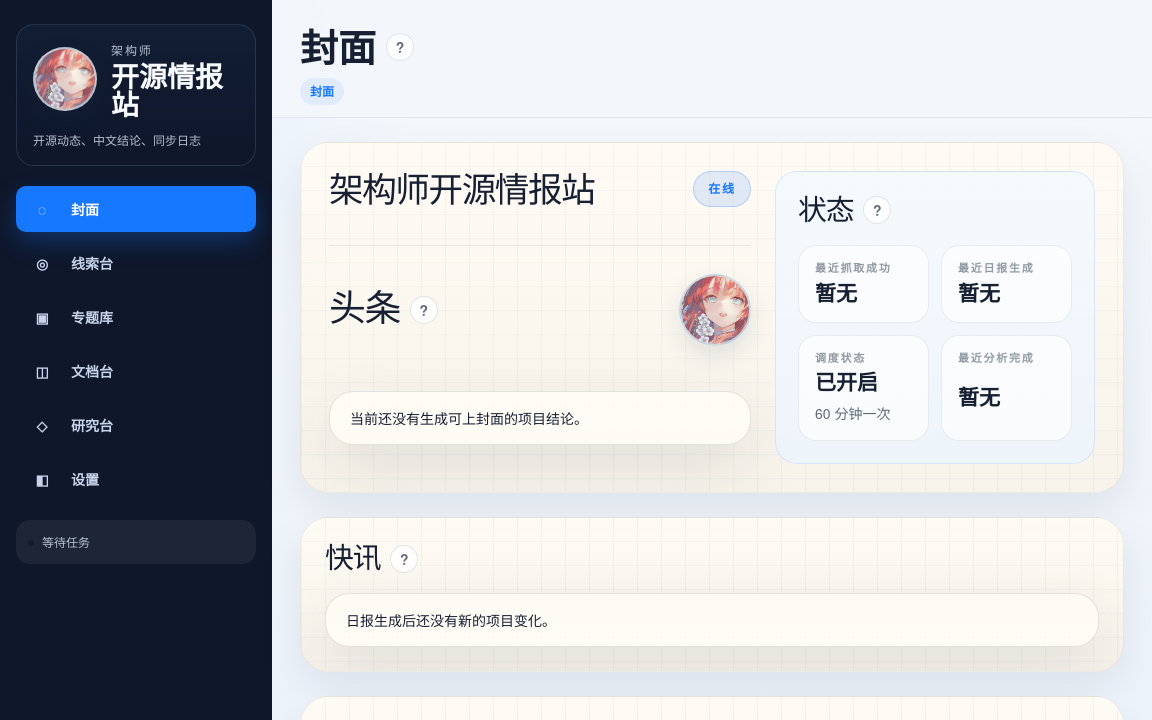
Test: App shell › renders the unified console sider and header
Expected: the element with test id "app-shell-sider" is shown, [0,0,272,719]
Expected: the header with test id "app-shell-header" is shown, [272,0,1151,118]
Click the button "◎ 线索台".
click(136, 263)  # box [16,240,256,286]
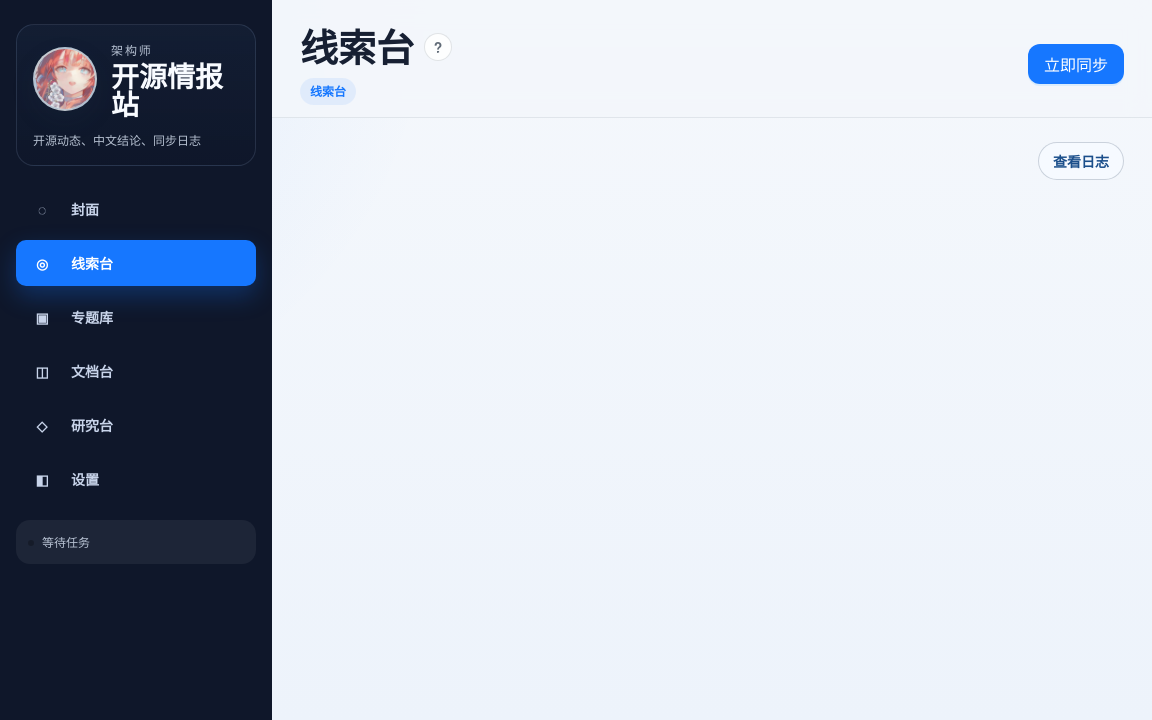
Result: the heading "线索台" is shown at [300,24,414,70]
